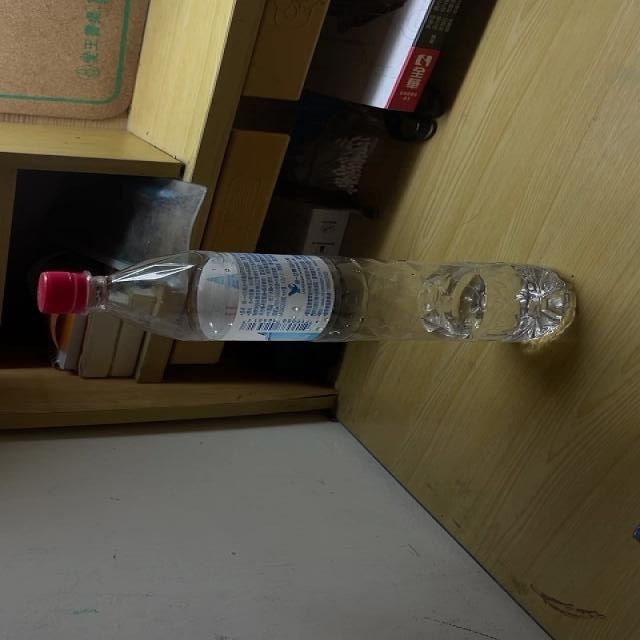Water: (39, 252, 580, 344)
